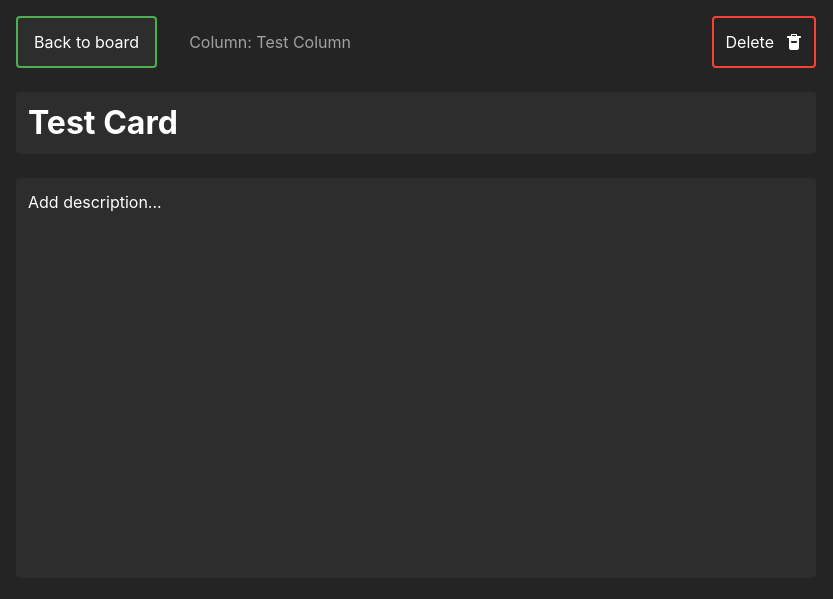
Test: updates card title
Click the button "Test Card" at x=103, y=122, box [16,92,816,154]
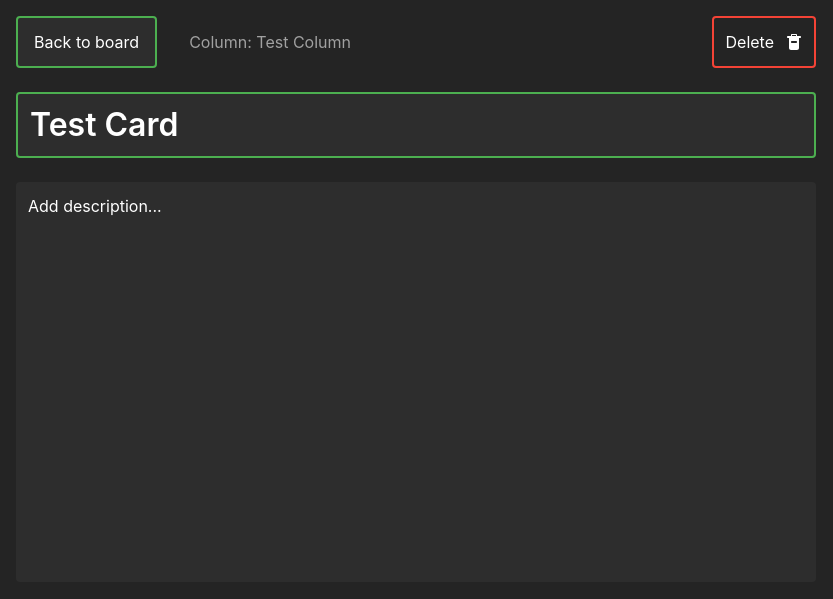
Replace the text in the field named "edit card title" with "Updated Title" at x=416, y=125, box [16,92,816,158]
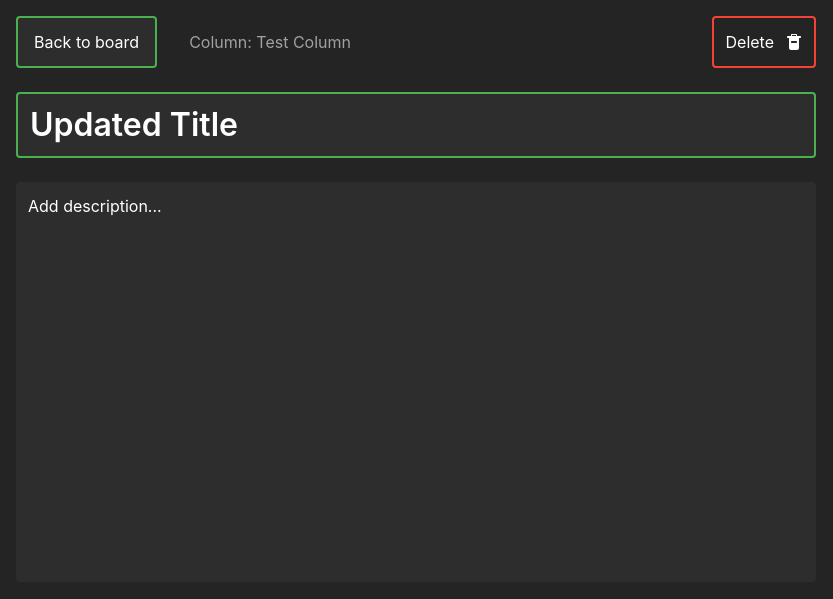
Press Enter
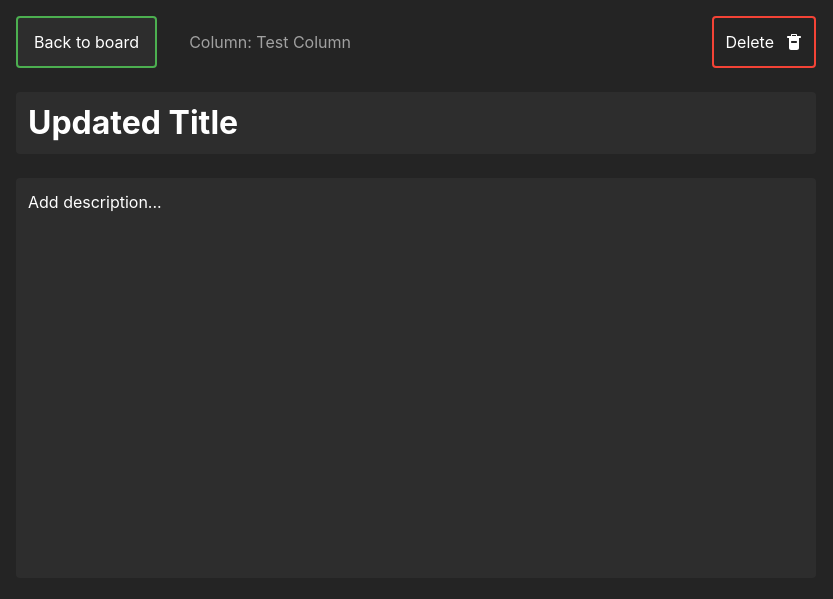
Result: the heading "Updated Title" is shown at [28,104,238,142]
